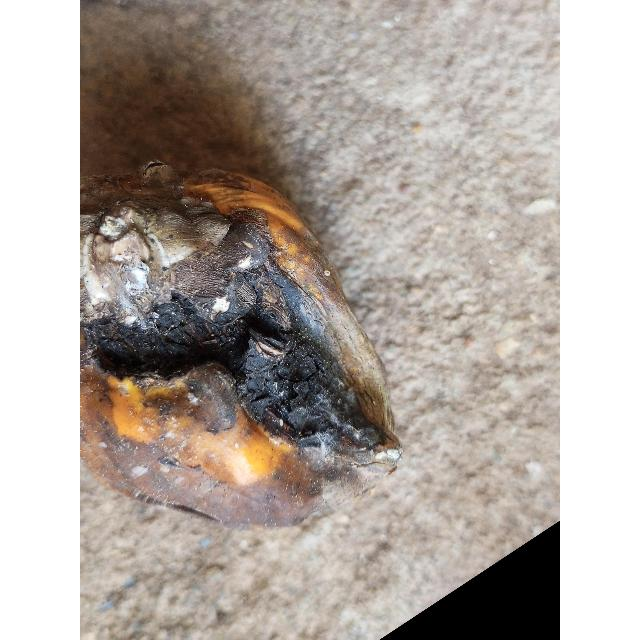damaged: (80, 136, 402, 532)
